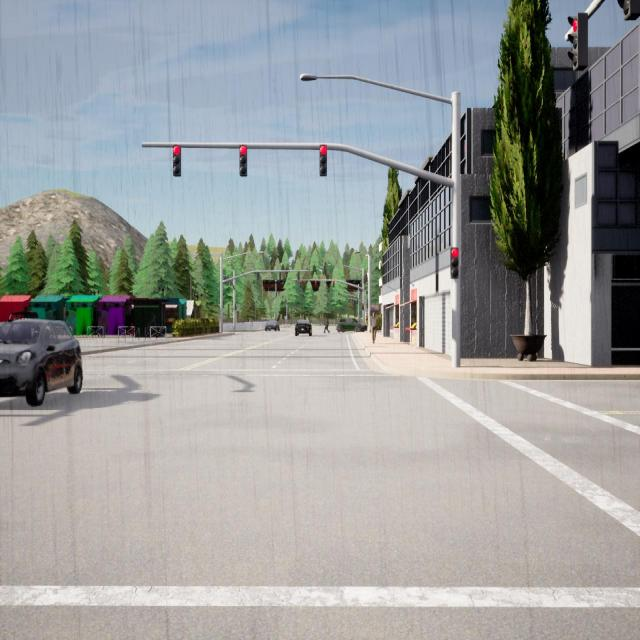Pedestrian: (369, 312, 378, 344), (323, 316, 330, 334)
Traffic_Signs: (284, 316, 288, 320)
Vehicle: (0, 317, 84, 407), (337, 317, 368, 333), (295, 320, 312, 336), (265, 320, 280, 331)
traffic_light: (566, 12, 589, 73), (615, 0, 640, 22), (172, 144, 181, 177), (450, 247, 459, 279), (240, 144, 248, 177), (320, 144, 327, 177), (234, 303, 237, 310), (298, 271, 300, 280), (364, 275, 366, 284), (300, 280, 302, 288), (315, 280, 317, 288), (258, 272, 260, 280), (279, 272, 281, 280), (333, 280, 335, 287), (362, 304, 364, 310), (338, 292, 340, 297), (366, 274, 367, 282)
